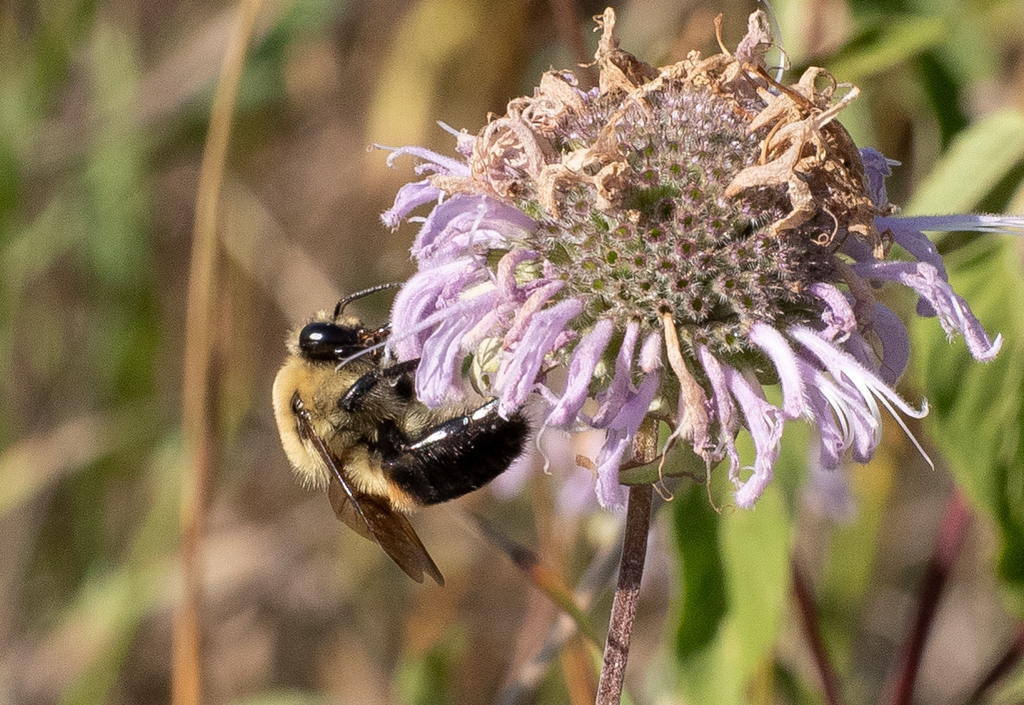bumblebee: (269, 280, 532, 591)
